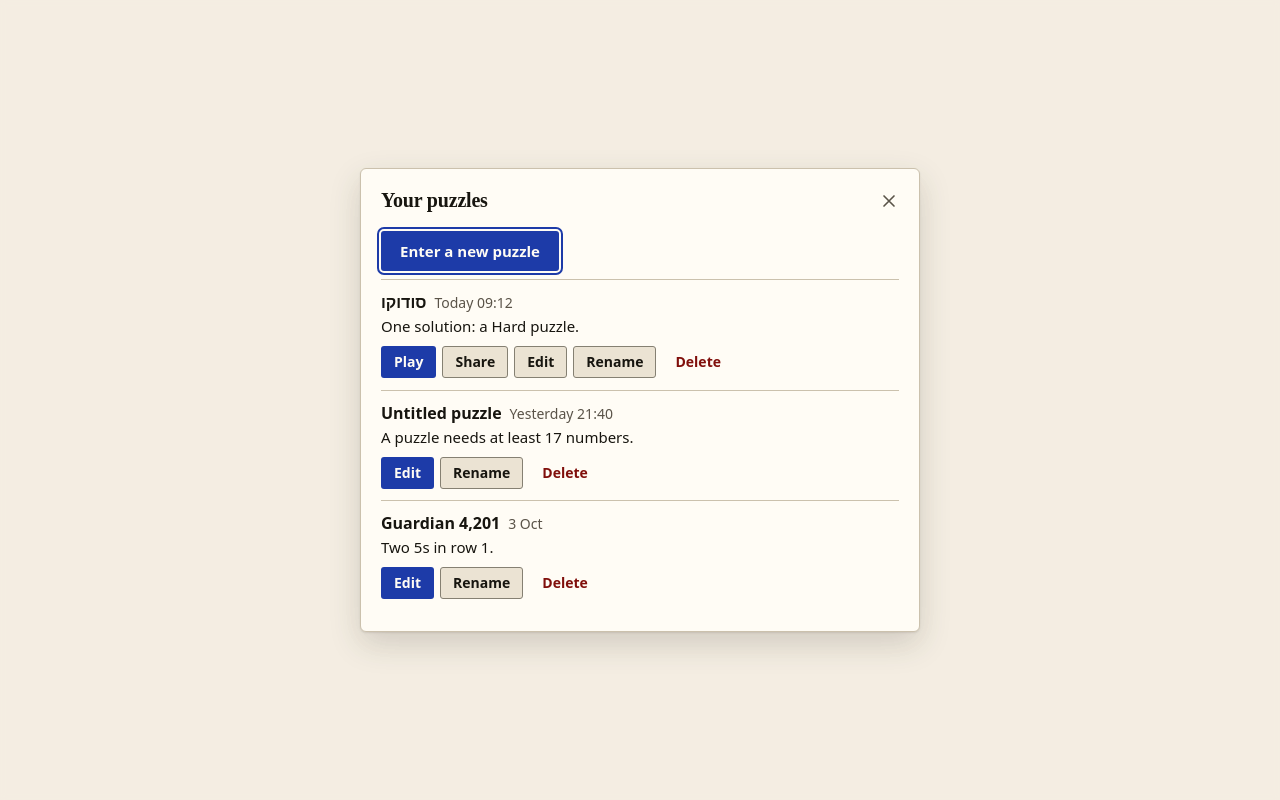
Test case: PuzzlesDialog › renaming › backs out on Escape without closing the dialog, focus back on Rename
The width and height of the screenshot is (1280, 800).
Click the button "Rename" below "סודוקו".
click(615, 362)  # box [573,346,656,378]
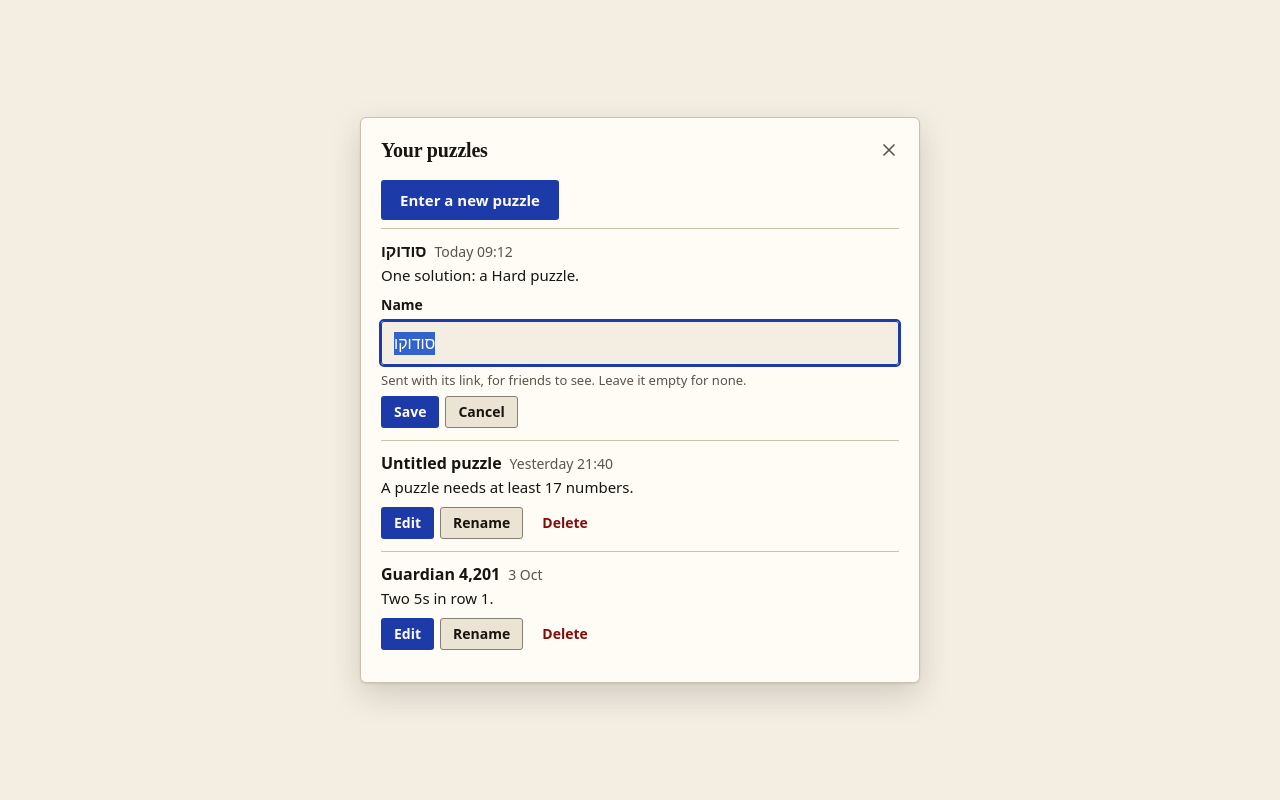
Press Escape in the field labelled "Name", box [381,321,899,365]
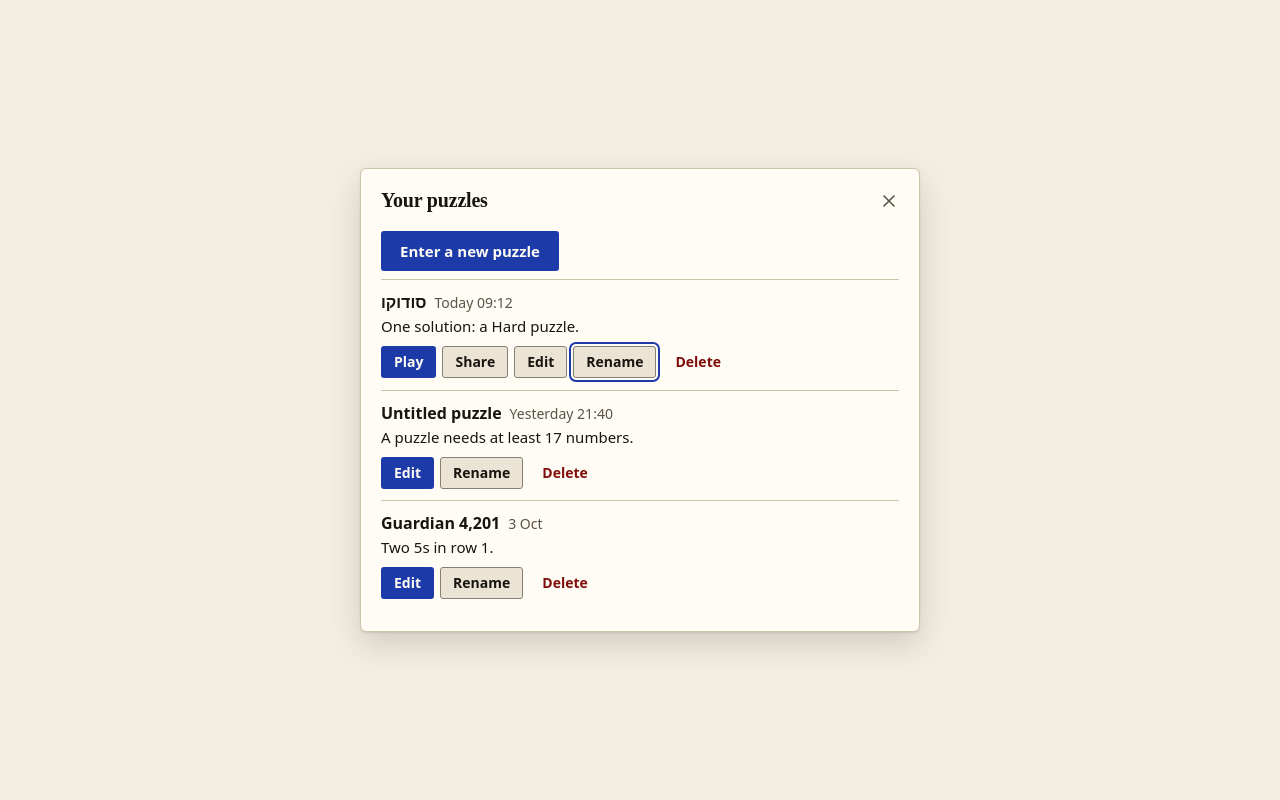
Result: the field is gone
